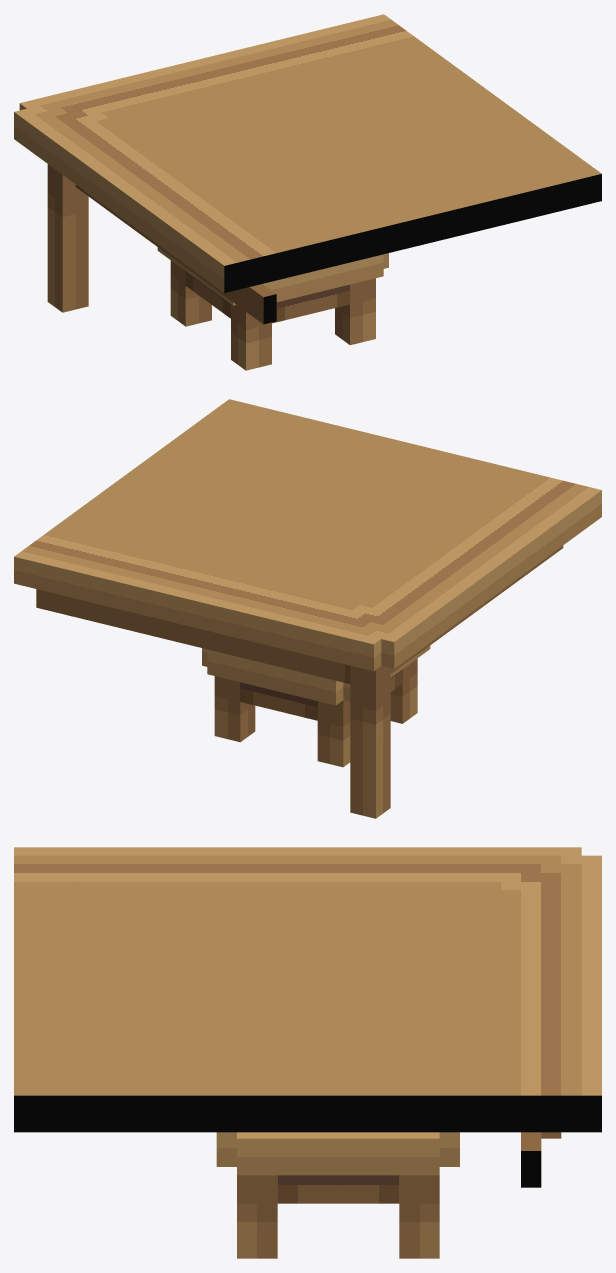
File: Furniture.gltf
The picture shows the model from 3 angles, top to bottom: view 1: azimuth 30°, elevation 25°; view 2: azimuth 150°, elevation 25°; view 3: azimuth 270°, elevation 25°; orthographic projection. The views are drawn at different scales.
Visible parts, largest first — view 1: Table, Chair; view 2: Table, Chair; view 3: Table, Chair.
Part boxes in pixels (x1=…): Table: x1=14, y1=14, x2=601, y2=324; Chair: x1=157, y1=247, x2=388, y2=370; Table: x1=14, y1=399, x2=601, y2=818; Chair: x1=202, y1=646, x2=430, y2=767; Table: x1=14, y1=847, x2=601, y2=1187; Chair: x1=216, y1=1132, x2=459, y2=1258.
Bounding box in the file's own units: 3.62 × 1.75 × 3.62.
Materials: 2 (2 with a texture image).
